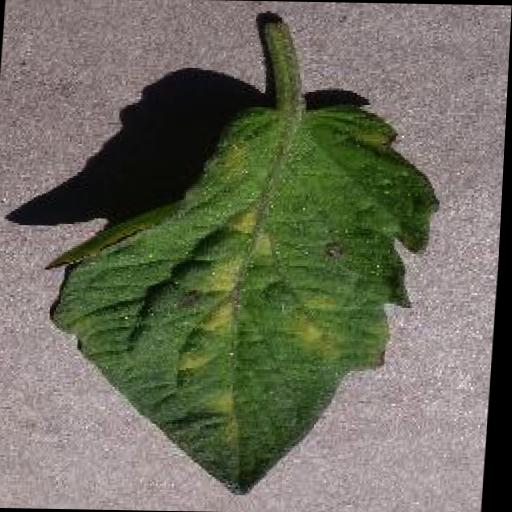Leaf Mold: (26, 98, 446, 498)
